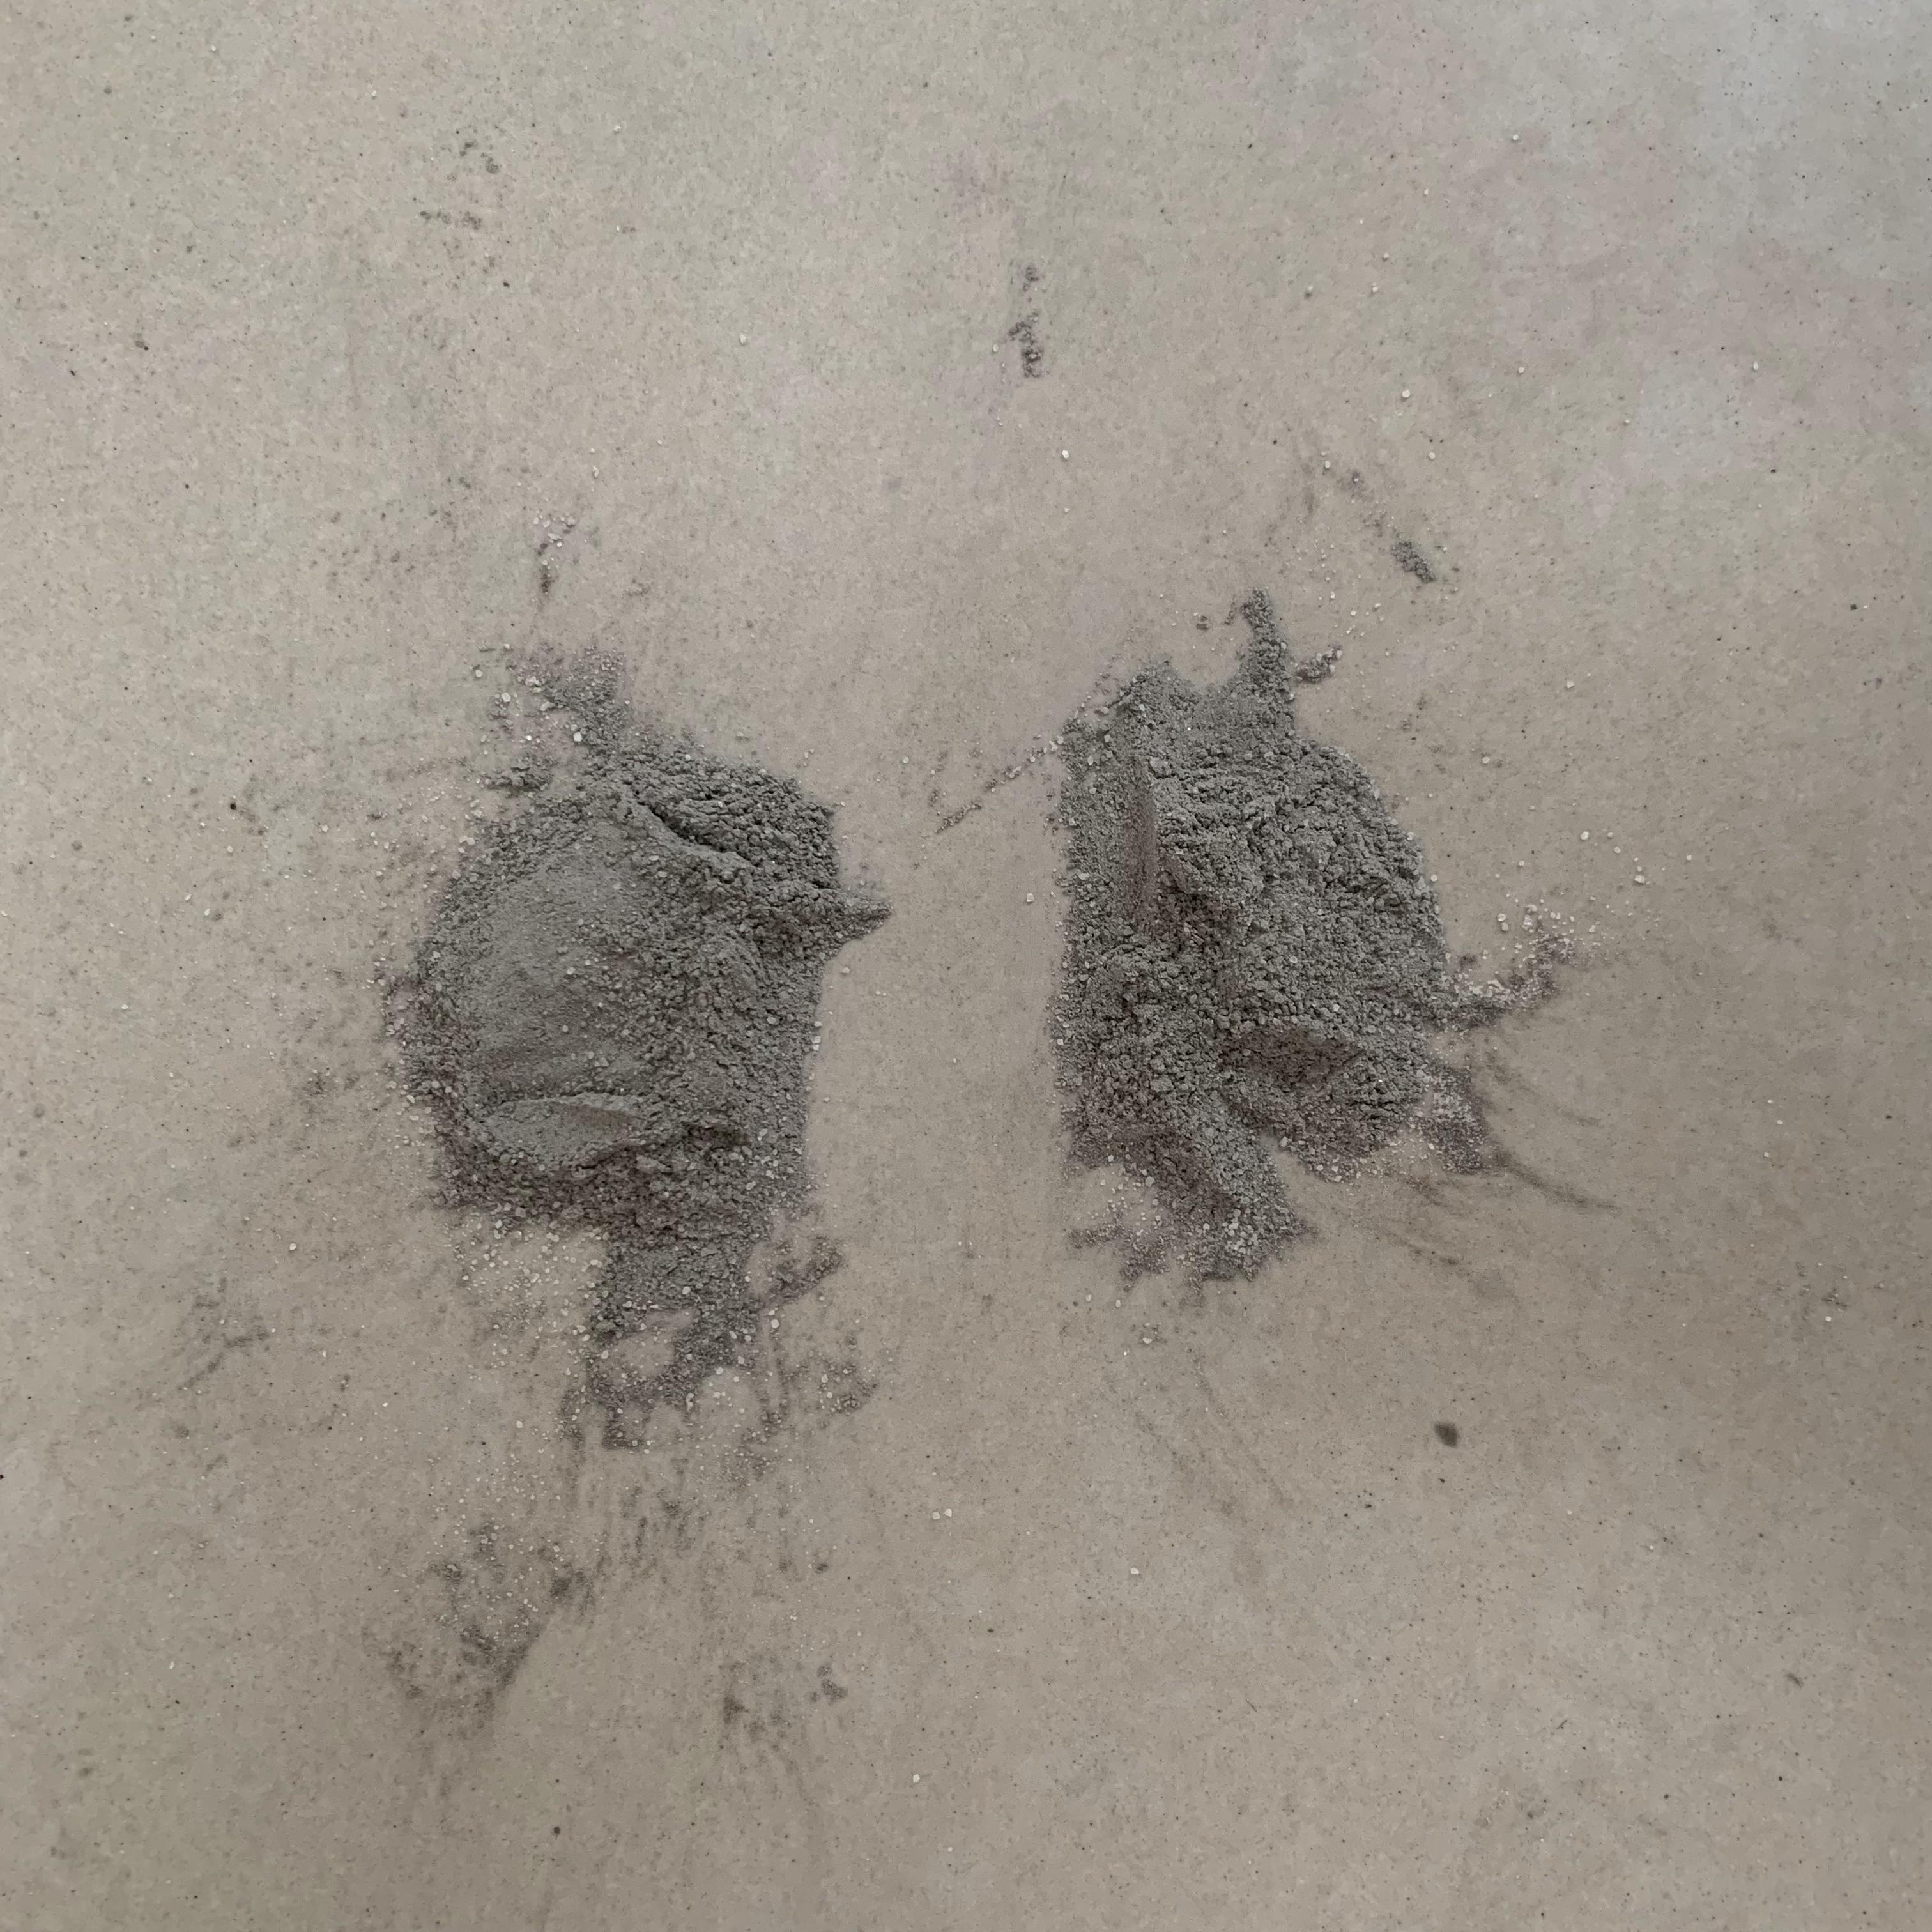ash pile: (379, 644, 890, 1470), (1049, 580, 1575, 1304)
